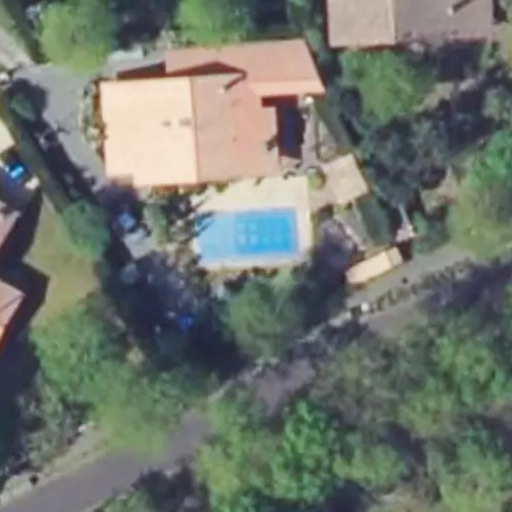pool: (200, 207, 303, 259)
